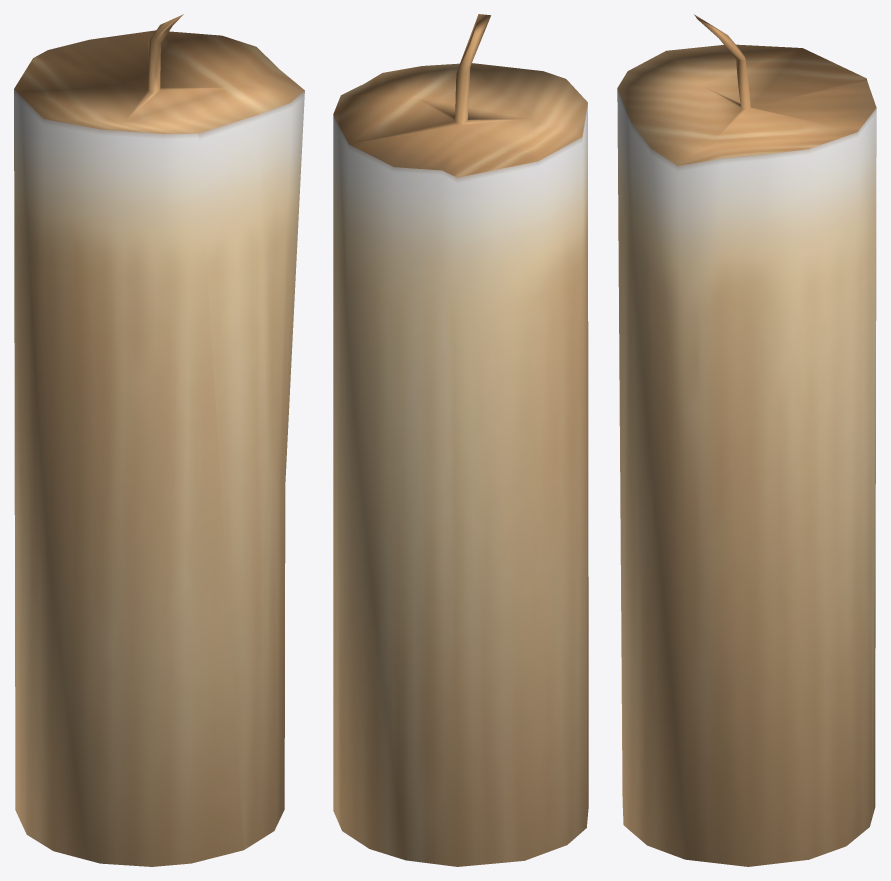
The model's file is CANDLE.fbx.
The picture shows the model from 3 angles, left to right: view 1: azimuth 30°, elevation 25°; view 2: azimuth 150°, elevation 25°; view 3: azimuth 270°, elevation 25°; orthographic projection. The views are drawn at different scales.
Visible parts, largest first — view 1: Cylinder; view 2: Cylinder; view 3: Cylinder.
Boxes of the visible parts, box(x1,y1,x2,y2) form: Cylinder: box(14, 14, 304, 866); Cylinder: box(333, 14, 588, 866); Cylinder: box(617, 14, 876, 866).
Bounding box in the file's own units: 67.82 × 224 × 66.08.
1 material, 1 textured.
